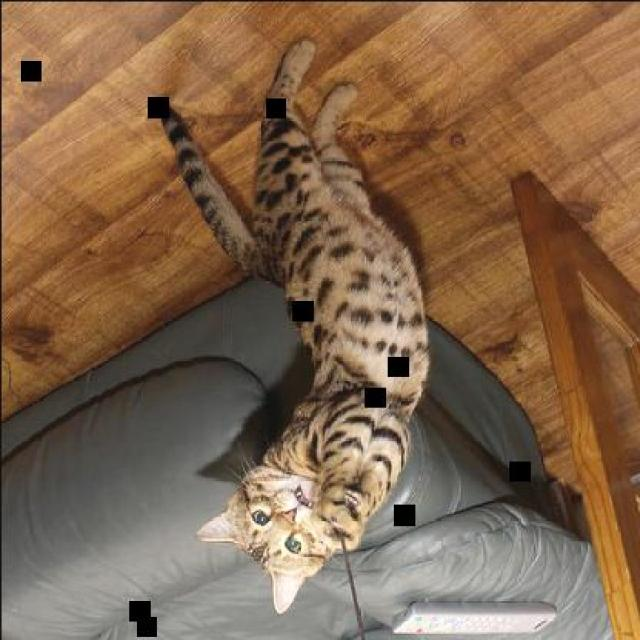unauthorized: (149, 35, 431, 614)
